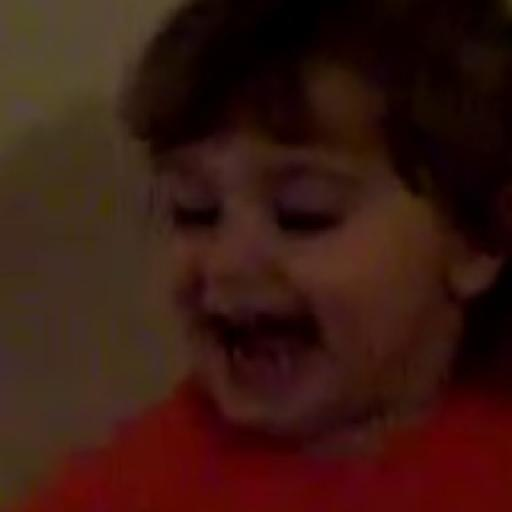Autism: (99, 0, 512, 480)
